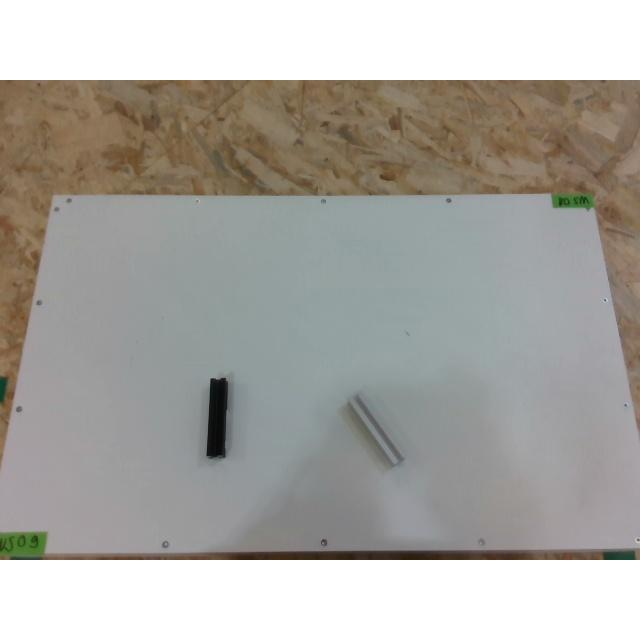F20_20_B: (207, 375, 230, 457)
F20_20_G: (348, 394, 404, 466)
